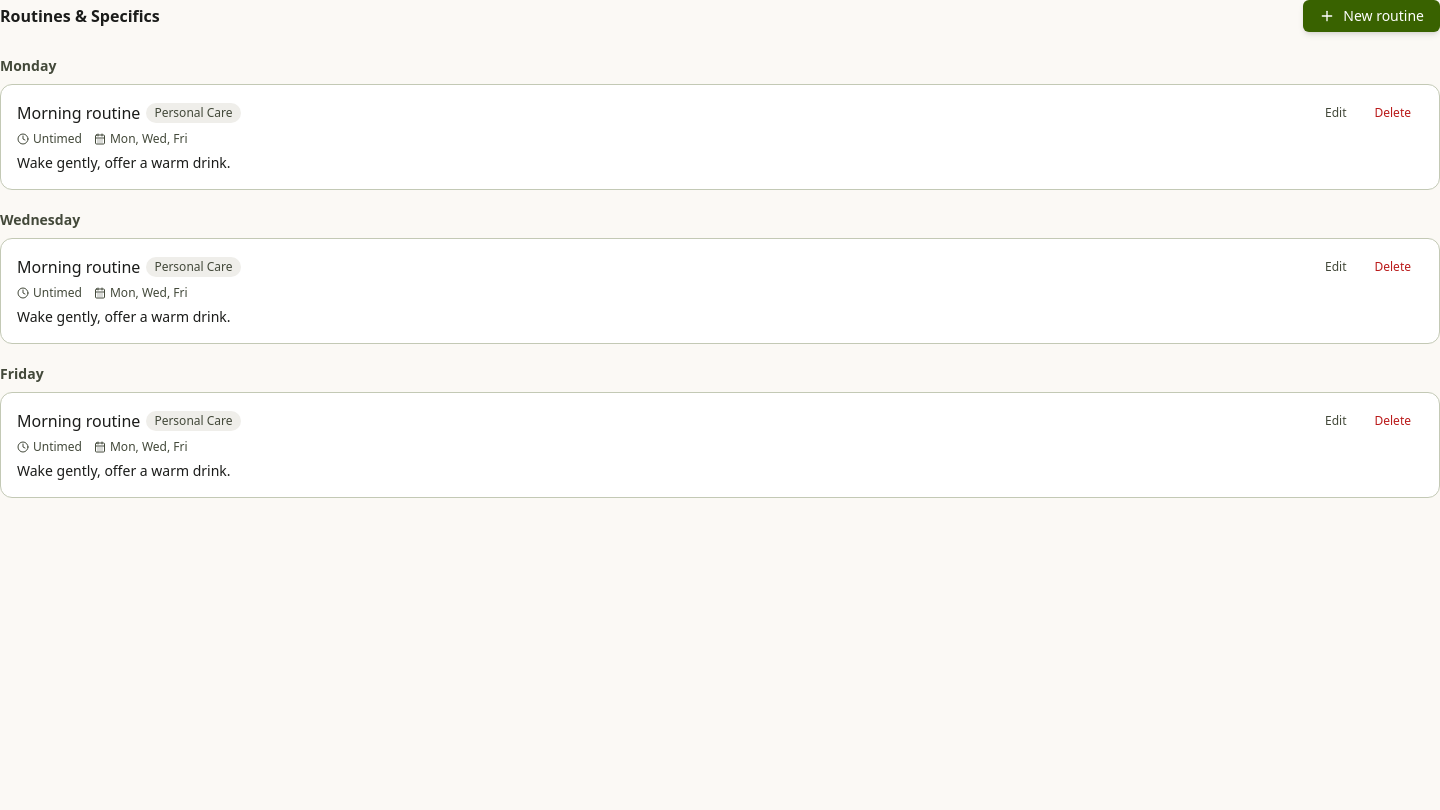
Test case: RoutinesTab › PD-4 — multi-day selection › prefills the day checkboxes from the routine being edited
The width and height of the screenshot is (1440, 810).
Click the 1st button "Edit" at coordinates (1336, 113), box [1313, 101, 1358, 125]
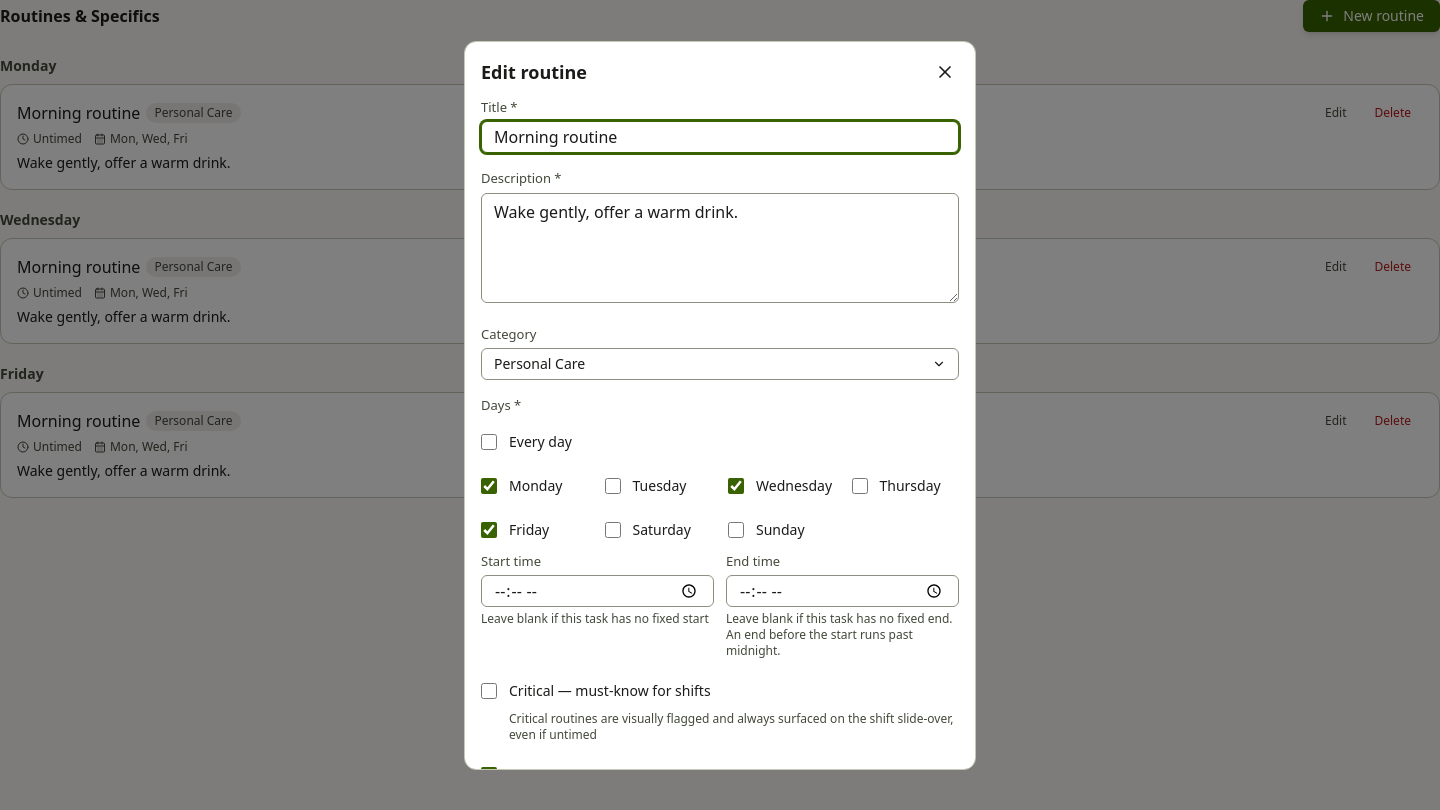
Expected: the checkbox labelled "Every day" is not checked, [481, 434, 497, 450]
Expected: the checkbox labelled "Monday" is checked, [481, 478, 497, 494]
Expected: the checkbox labelled "Wednesday" is checked, [728, 478, 744, 494]
